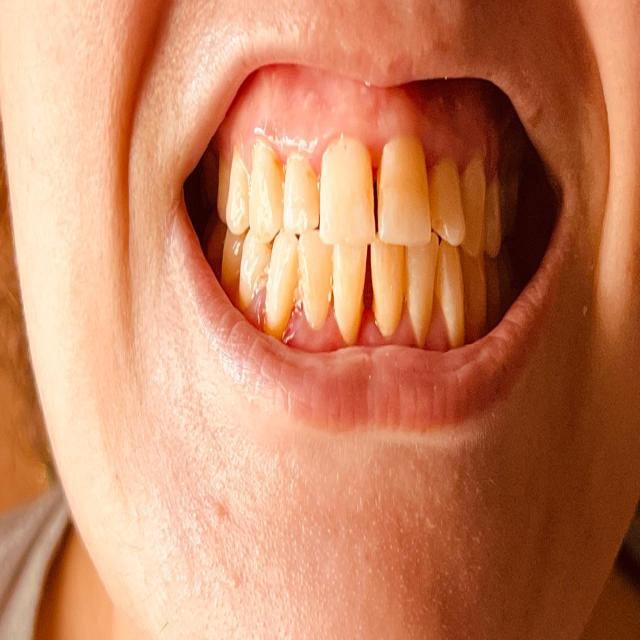tooth: (380, 143, 428, 245), (325, 150, 373, 238), (334, 246, 366, 335), (430, 159, 464, 242), (266, 237, 296, 319), (371, 247, 402, 326), (298, 238, 330, 313), (286, 154, 318, 228), (251, 151, 279, 233), (406, 251, 434, 328), (438, 253, 464, 335), (467, 167, 485, 256), (462, 257, 484, 326), (244, 234, 262, 300), (229, 159, 247, 223), (491, 174, 502, 253), (225, 230, 238, 276)
